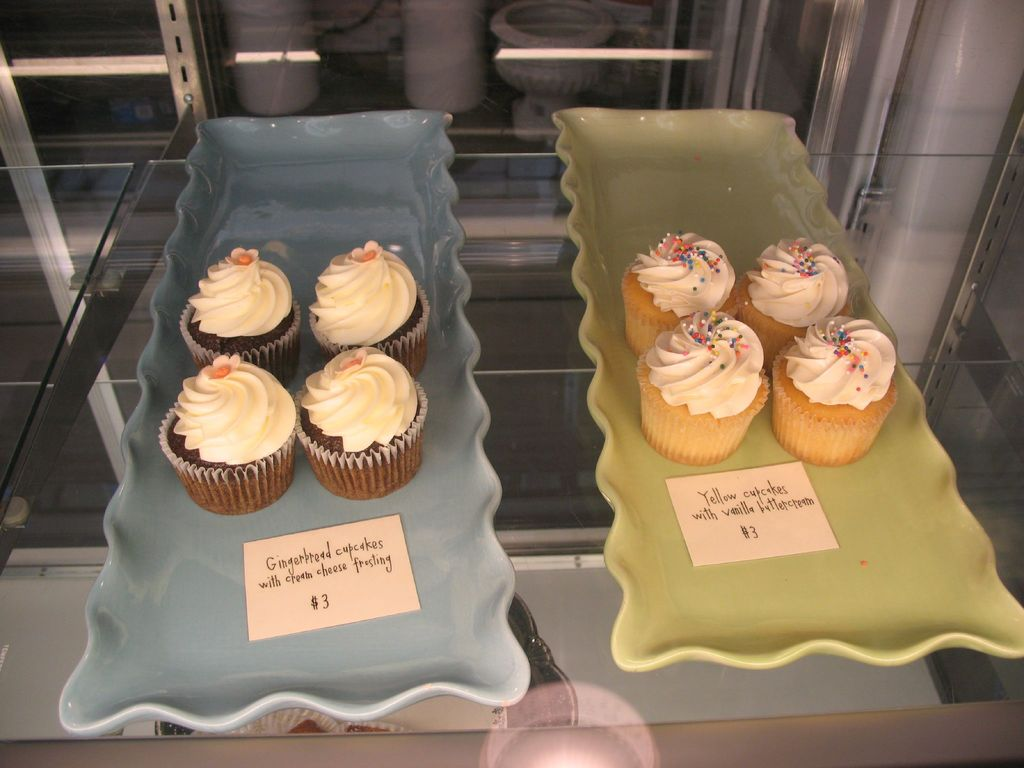cake: (158, 349, 305, 518), (629, 303, 773, 468), (297, 348, 429, 485), (773, 320, 895, 465), (308, 241, 428, 367), (181, 244, 293, 378), (732, 238, 852, 353), (624, 236, 730, 352)
